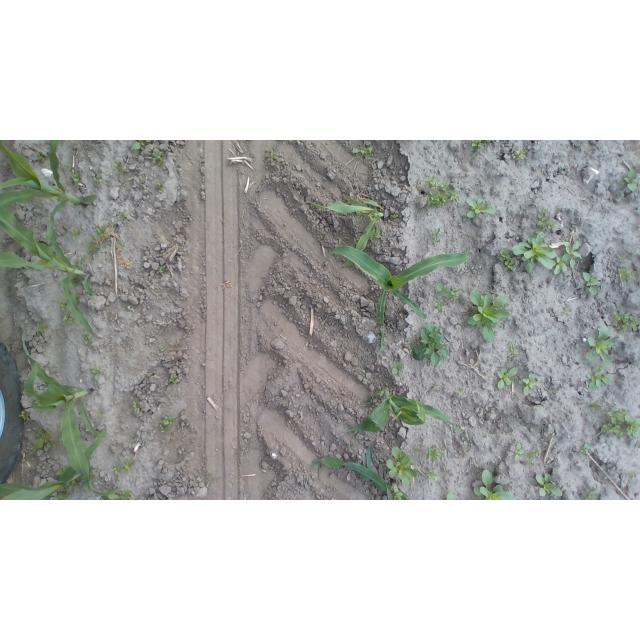Maize: (319, 246, 471, 355), (21, 327, 118, 497), (0, 207, 98, 339), (0, 140, 98, 244), (1, 427, 107, 500), (345, 389, 471, 444), (304, 197, 383, 269), (309, 444, 413, 498)
Weeds: (468, 289, 511, 344), (412, 322, 455, 367), (513, 234, 555, 278), (598, 403, 640, 442), (475, 465, 516, 499), (383, 447, 418, 485), (424, 178, 461, 211), (583, 327, 616, 362), (555, 242, 586, 276), (464, 193, 496, 223), (531, 470, 562, 500), (434, 281, 463, 313), (613, 254, 640, 287), (66, 165, 91, 193), (584, 366, 614, 389), (496, 367, 521, 394), (87, 225, 109, 255), (615, 309, 640, 334), (536, 209, 561, 233), (33, 429, 55, 451), (521, 372, 541, 396), (520, 448, 542, 468), (623, 167, 640, 192), (157, 412, 177, 433), (389, 359, 411, 377), (582, 271, 600, 293), (110, 461, 141, 473), (111, 159, 129, 177), (428, 448, 446, 465), (510, 443, 526, 462), (129, 141, 156, 152), (429, 227, 444, 246), (90, 366, 106, 383), (169, 369, 183, 387), (33, 323, 51, 336), (510, 345, 525, 360), (131, 400, 146, 415), (352, 146, 374, 156), (514, 147, 528, 162), (560, 303, 575, 317), (62, 312, 78, 325), (154, 180, 168, 194), (581, 439, 594, 454), (469, 142, 486, 153), (445, 488, 460, 500), (35, 151, 48, 164), (81, 331, 92, 346), (427, 469, 440, 480), (158, 266, 170, 277), (153, 154, 164, 166), (376, 226, 384, 240), (18, 414, 30, 423), (392, 210, 400, 223), (353, 236, 362, 246), (58, 301, 68, 309)
